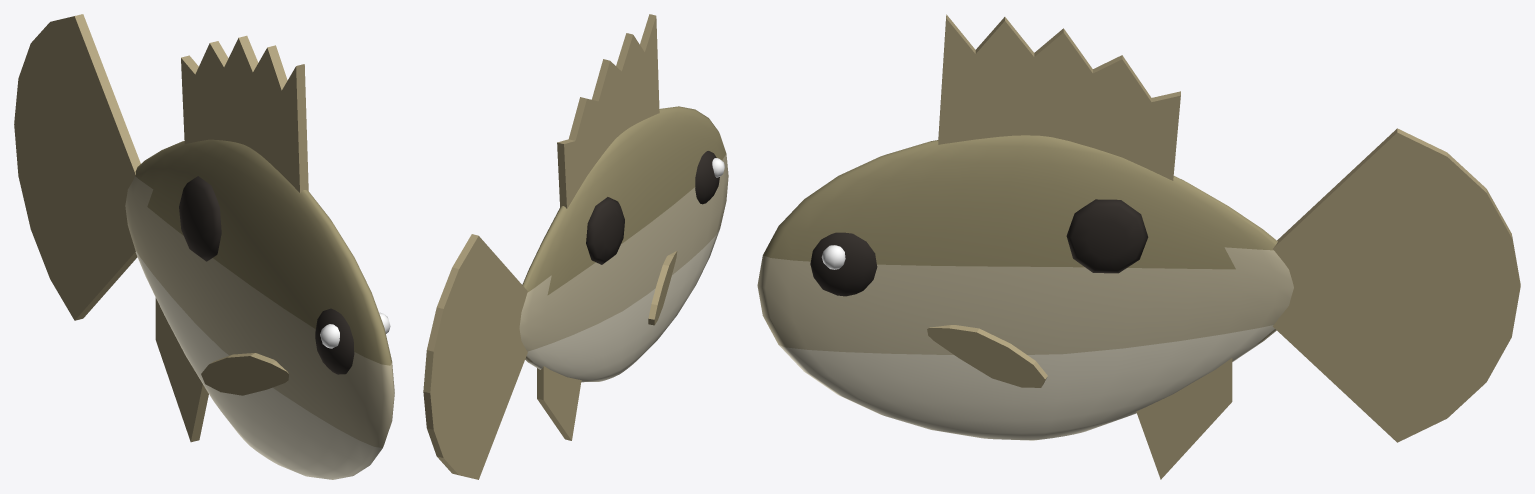
File: fish-john-dory.glb
3 renders of one model, left to right at view 1: azimuth 30°, elevation 25°; view 2: azimuth 150°, elevation 25°; view 3: azimuth 270°, elevation 25°, orthographic. The views are drawn at different scales.
Visible parts, largest first — view 1: fish; view 2: fish; view 3: fish.
Boxes of the visible parts, x1,y1,x2,y2 form: fish: (14,14,394,479); fish: (423,14,728,479); fish: (757,14,1520,479).
Bounding box in the file's own units: 0.0704 × 0.3004 × 0.45.
